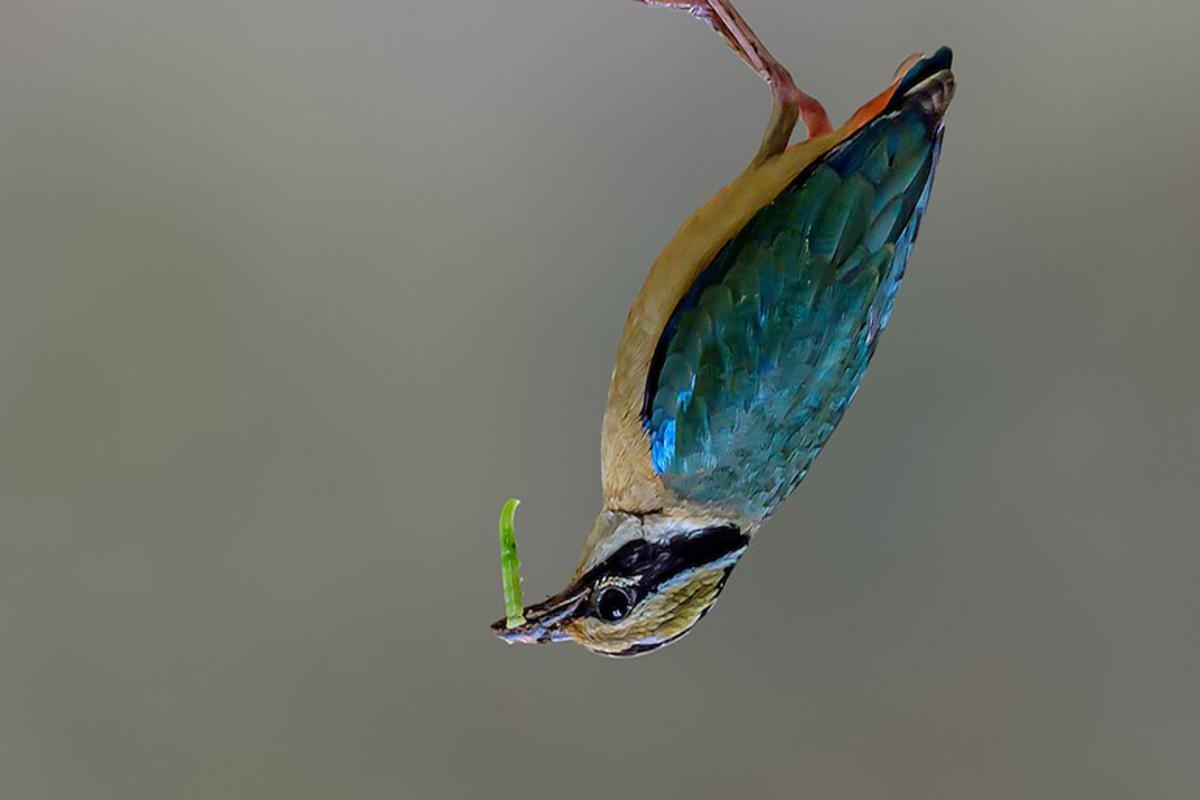pitta: (470, 7, 1098, 701)
